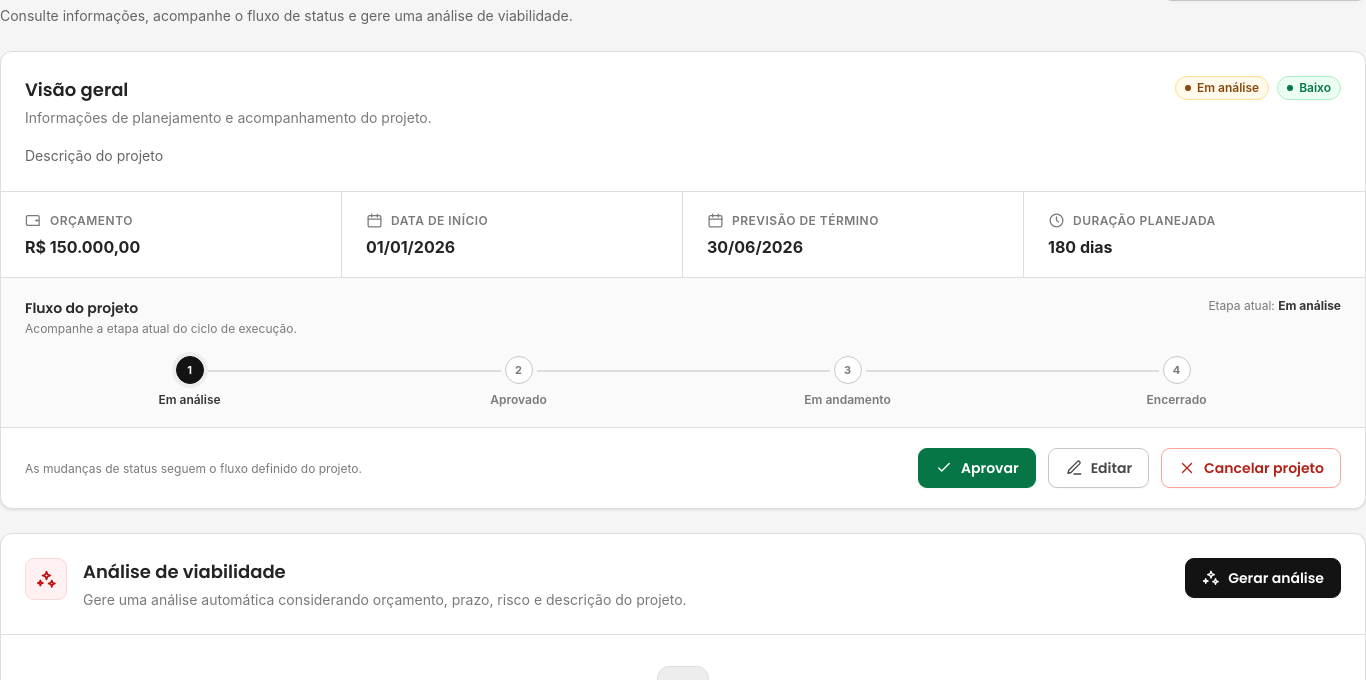
Test: ProjectDetailPage — AI analysis › clears a stale analysis after the project status changes
Click the button "Gerar análise" at (1263, 578), box [1185, 558, 1341, 598]
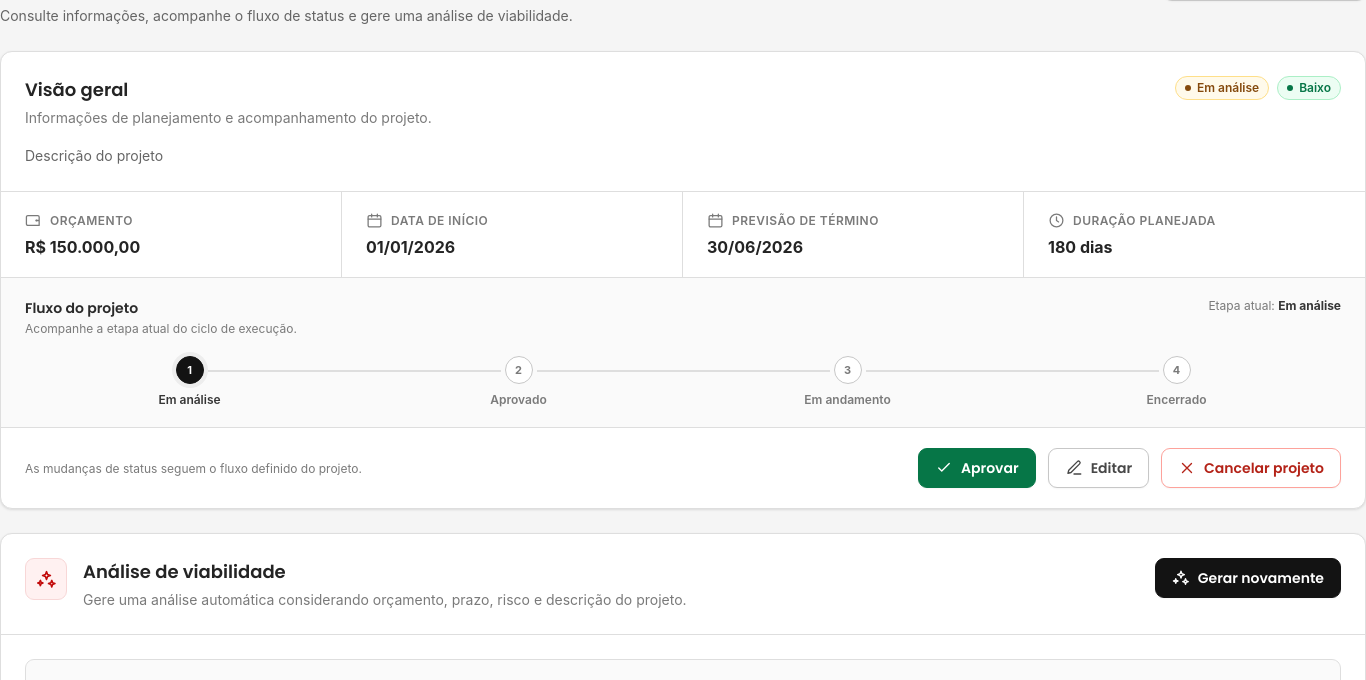
Click the button "Aprovar" at (977, 468), box [918, 448, 1036, 488]
(page scrolled)
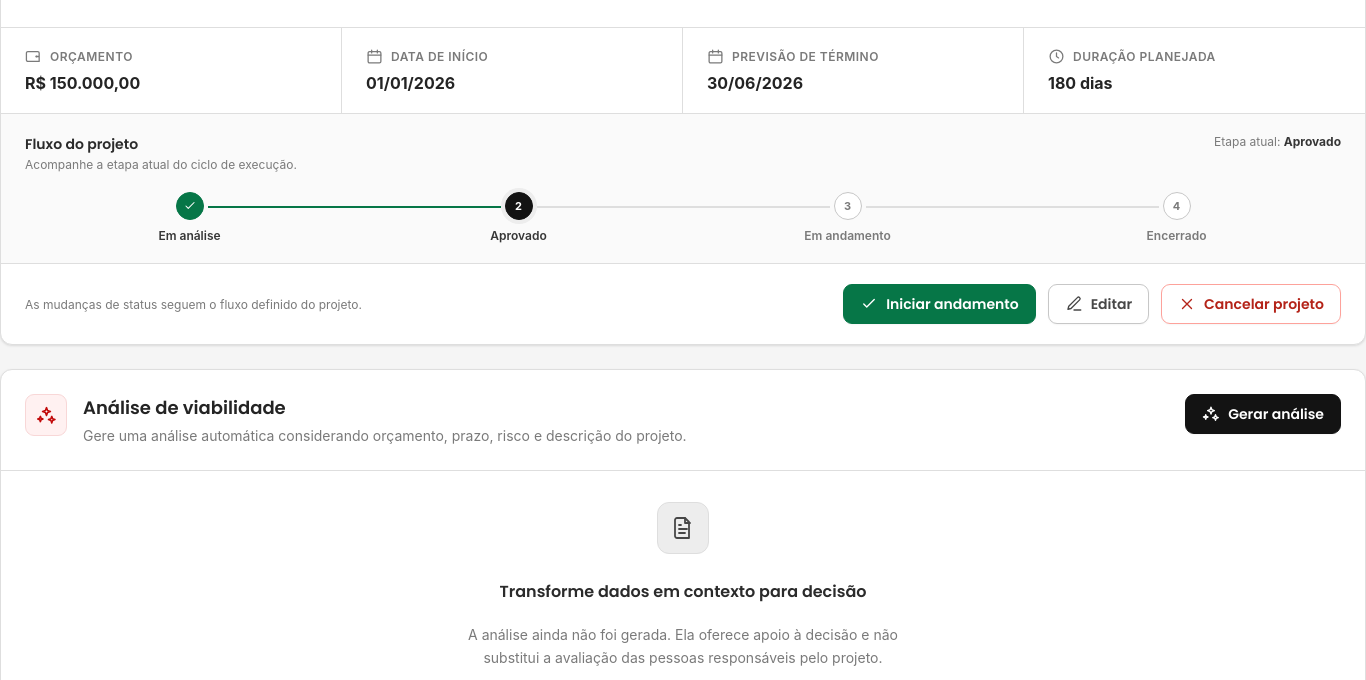
Expected: the text "análise ainda não foi gerada" is shown, [468, 626, 898, 666]
